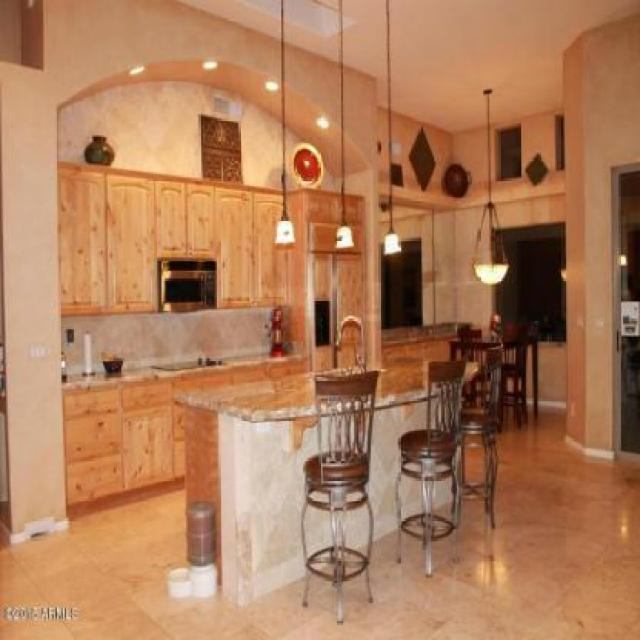Floor: (1, 405, 639, 639), (465, 447, 484, 481), (434, 502, 452, 520), (345, 566, 362, 576), (405, 526, 423, 535), (318, 565, 334, 575), (465, 435, 484, 442), (356, 545, 367, 557), (432, 519, 450, 526), (344, 554, 364, 560), (434, 530, 447, 535), (476, 487, 484, 495)
